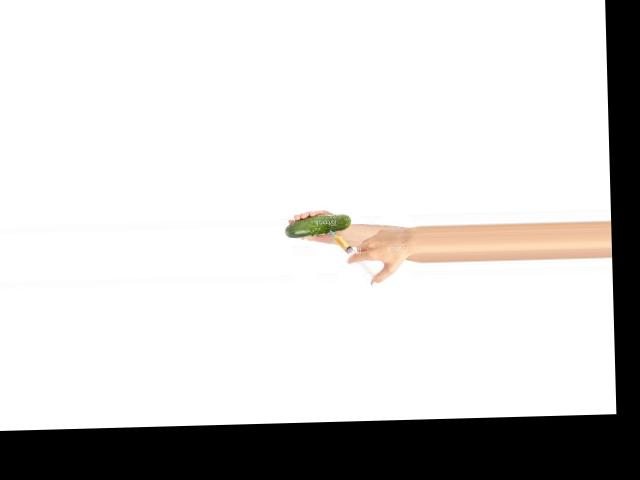cucumber: (283, 214, 350, 237)
